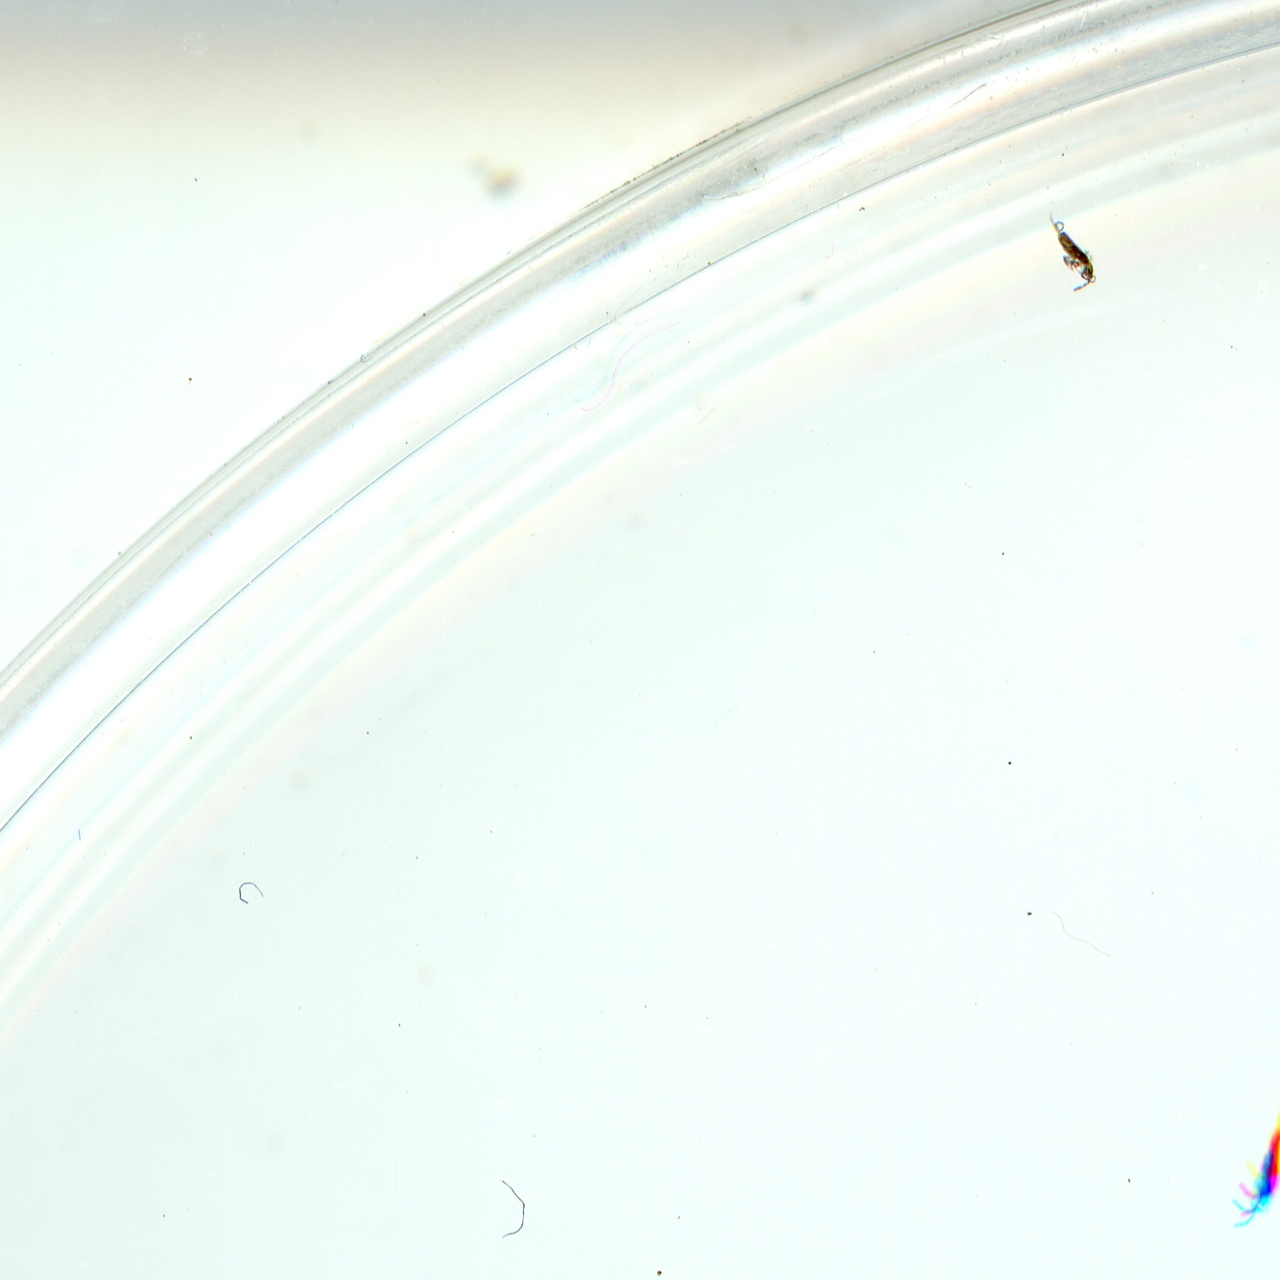arthropod: (1210, 1063, 1280, 1250), (1022, 199, 1115, 302)
